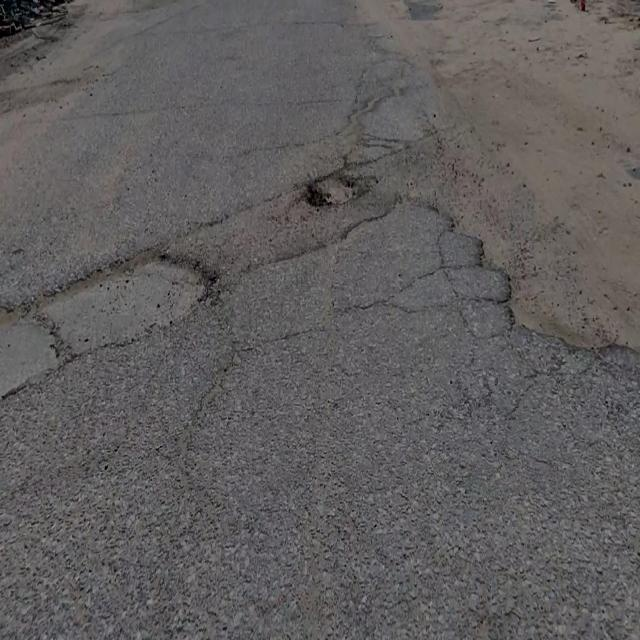pothole: (41, 249, 214, 355), (484, 246, 640, 355), (308, 168, 375, 210)
